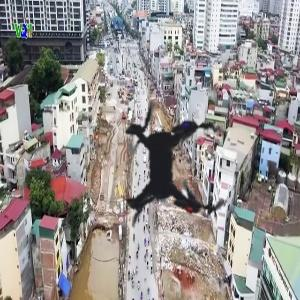drone: (51, 47, 282, 278)
